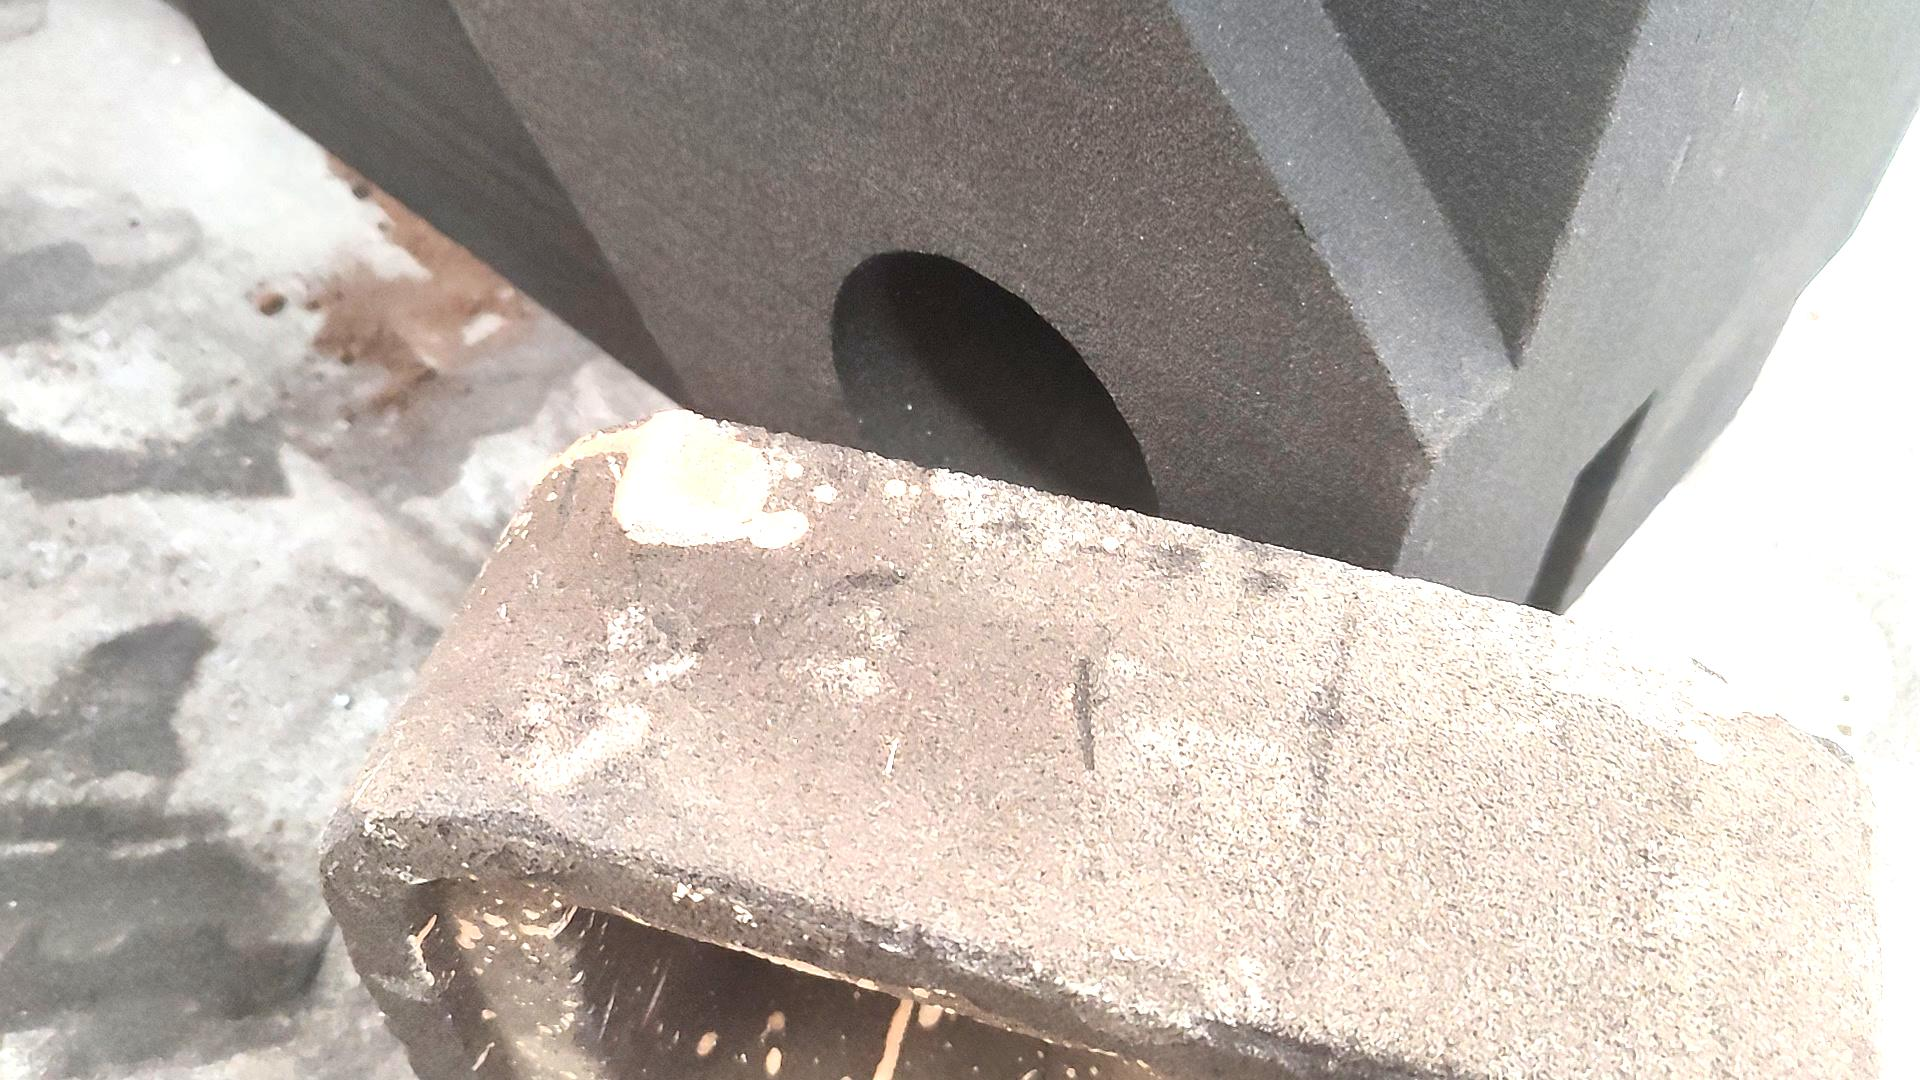pouring hole: (829, 248, 1162, 554)
